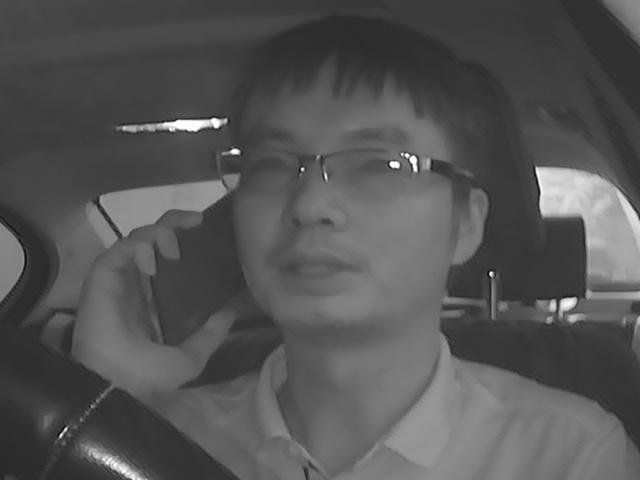hand: (78, 204, 203, 391)
